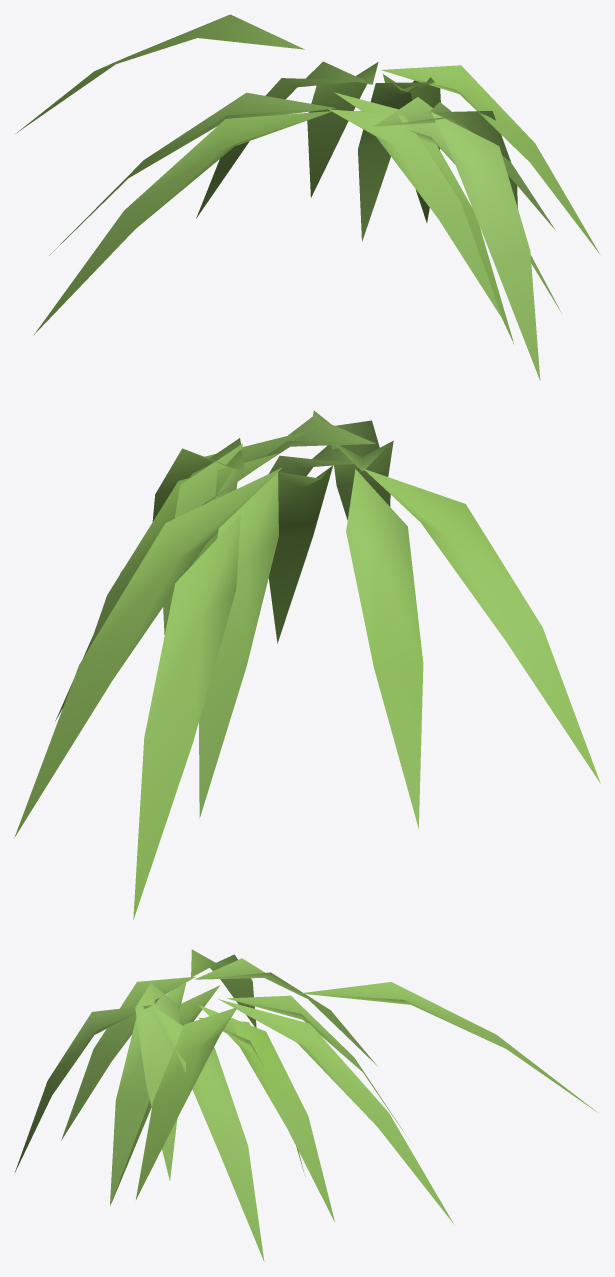
File: world_grass_c.fbx
3 views of the same model, one above another, from view 1: azimuth 30°, elevation 25°; view 2: azimuth 150°, elevation 25°; view 3: azimuth 270°, elevation 25° (orthographic). The views are drawn at different scales.
Visible parts, largest first — view 1: world_grass_c; view 2: world_grass_c; view 3: world_grass_c.
Boxes of the visible parts, x1=… form: world_grass_c: x1=15, y1=14, x2=599, y2=380; world_grass_c: x1=14, y1=410, x2=600, y2=919; world_grass_c: x1=14, y1=949, x2=597, y2=1261.
Bounding box in the file's own units: 139 × 68.77 × 185.
